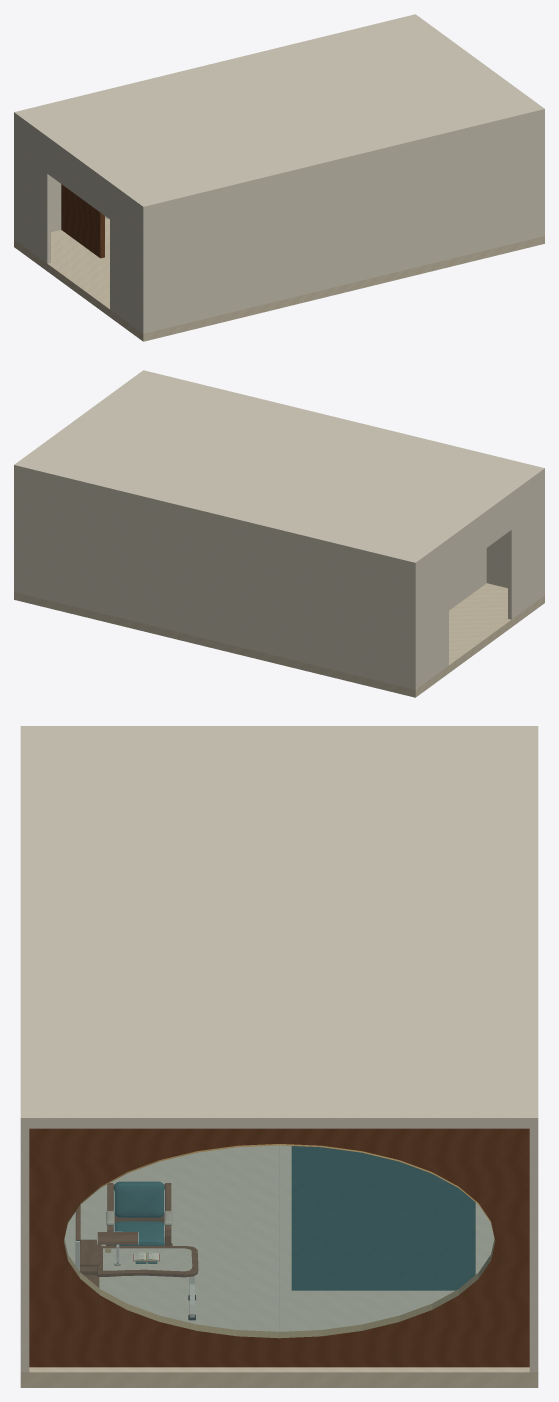
File: StarAtlasSpecialty_389.glb
3 renders of one model, top to bottom at view 1: azimuth 30°, elevation 25°; view 2: azimuth 150°, elevation 25°; view 3: azimuth 270°, elevation 25°, orthographic. The views are drawn at different scales.
Visible parts, largest first — view 1: SA389_Ceiling, SA389_SouthSide, SA389_RoomFloor, SA389_EntryShoulderNorth, SA389_EntryShoulderSouth, SA389_EntryHeader, SA389_EntryPrivacyDogleg, SA389_NorthSide; view 2: SA389_Ceiling, SA389_NorthSide, SA389_RoomFloor, SA389_EntryShoulderSouth, SA389_EntryShoulderNorth, SA389_EntryHeader, SA389_WashEntrySide, SA389_SouthSide; view 3: SA389_Ceiling, SA389_OvalAtriumGlass, SA389_OvalWindowReveal, SA389_RoomFloor, SA389_Cocoon01_RearLiner, SA389_OvalDepthReturn, SA389_NorthSide, SA389_SouthSide, SA389_DayReadingChair__DAY_CHAIR_single_reclined_back_cushio, SA389_LibraryStudyEdge__SINGLE_inset_stone_writing_surface, SA389_LibraryStudyEdge__SINGLE_carved_walnut_writing_edge, SA389_DayReadingChair__DAY_CHAIR_single_crowned_seat.
Boxes of the visible parts, bbox=[...] form: SA389_Ceiling: bbox=[14, 14, 544, 211]; SA389_SouthSide: bbox=[141, 114, 544, 333]; SA389_RoomFloor: bbox=[14, 218, 544, 341]; SA389_EntryShoulderNorth: bbox=[16, 119, 50, 263]; SA389_EntryShoulderSouth: bbox=[110, 188, 141, 331]; SA389_EntryHeader: bbox=[46, 142, 110, 219]; SA389_EntryPrivacyDogleg: bbox=[61, 184, 104, 258]; SA389_NorthSide: bbox=[14, 117, 107, 240]; SA389_Ceiling: bbox=[14, 370, 544, 567]; SA389_NorthSide: bbox=[14, 470, 417, 689]; SA389_RoomFloor: bbox=[14, 583, 544, 697]; SA389_EntryShoulderSouth: bbox=[508, 475, 542, 619]; SA389_EntryShoulderNorth: bbox=[417, 544, 448, 687]; SA389_EntryHeader: bbox=[448, 497, 512, 575]; SA389_WashEntrySide: bbox=[449, 548, 486, 610]; SA389_SouthSide: bbox=[486, 473, 544, 596]; SA389_Ceiling: bbox=[20, 726, 538, 1128]; SA389_OvalAtriumGlass: bbox=[64, 1145, 494, 1338]; SA389_OvalWindowReveal: bbox=[29, 1128, 529, 1367]; SA389_RoomFloor: bbox=[20, 1145, 538, 1387]; SA389_Cocoon01_RearLiner: bbox=[296, 1146, 471, 1290]; SA389_OvalDepthReturn: bbox=[63, 1144, 495, 1338]; SA389_NorthSide: bbox=[529, 1128, 538, 1372]; SA389_SouthSide: bbox=[20, 1128, 29, 1372]; SA389_DayReadingChair__DAY_CHAIR_single_reclined_back_cushio: bbox=[113, 1181, 164, 1217]; SA389_LibraryStudyEdge__SINGLE_inset_stone_writing_surface: bbox=[103, 1248, 192, 1271]; SA389_LibraryStudyEdge__SINGLE_carved_walnut_writing_edge: bbox=[97, 1246, 198, 1277]; SA389_DayReadingChair__DAY_CHAIR_single_crowned_seat: bbox=[113, 1221, 164, 1245].
Bounding box in the file's own units: 12.9 × 4.14 × 7.2.
Materials: 58 (43 with a texture image).
